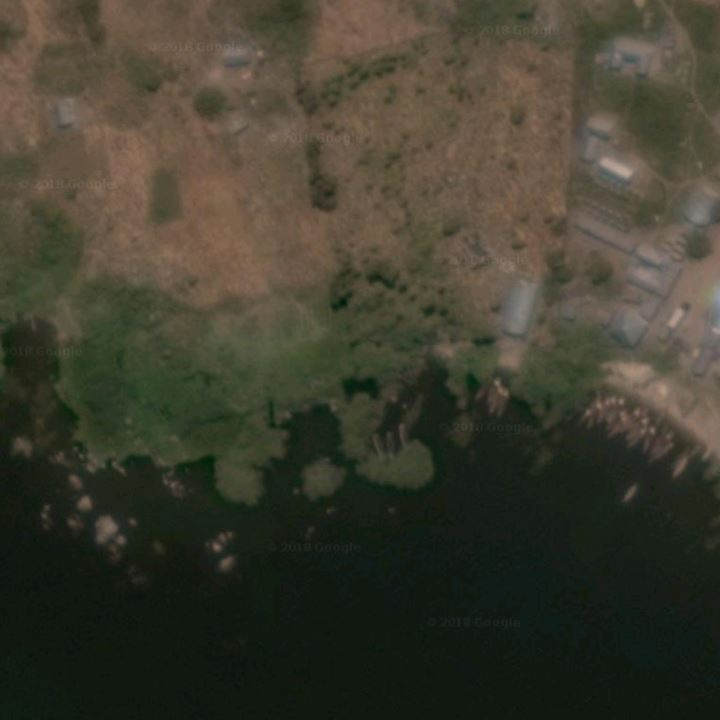boat: (645, 428, 677, 458), (622, 412, 645, 447), (629, 419, 651, 455), (491, 387, 515, 418), (649, 438, 676, 465), (473, 372, 495, 404), (672, 447, 692, 482), (481, 381, 502, 413), (485, 375, 501, 408), (584, 401, 601, 432), (621, 479, 641, 505), (598, 395, 611, 434), (621, 407, 637, 438), (608, 399, 625, 428), (370, 432, 385, 464), (600, 398, 615, 428), (397, 422, 411, 449), (384, 427, 396, 458), (575, 409, 591, 428)
